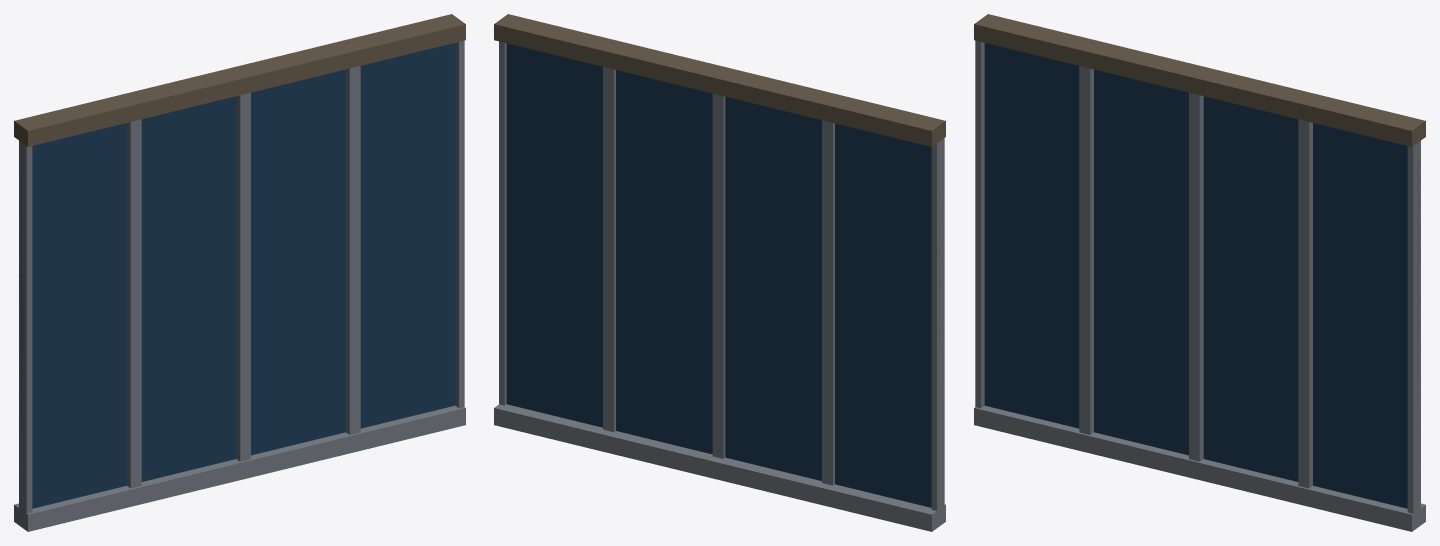
Rendered from mid-w1.fbx.
The picture shows the model from 3 angles, left to right: view 1: azimuth 30°, elevation 25°; view 2: azimuth 150°, elevation 25°; view 3: azimuth 330°, elevation 25°; orthographic projection.
Parts seen in each view (by area): view 1: a2010_mid-w1; view 2: a2010_mid-w1; view 3: a2010_mid-w1.
Part boxes in pixels (x1=…): a2010_mid-w1: x1=14, y1=14, x2=465, y2=531; a2010_mid-w1: x1=494, y1=14, x2=945, y2=531; a2010_mid-w1: x1=974, y1=14, x2=1425, y2=531.
Size of the model in its own units: 4 by 3.5 by 0.22.
